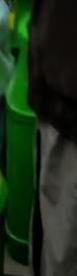cylinder: (1, 1, 77, 276)
